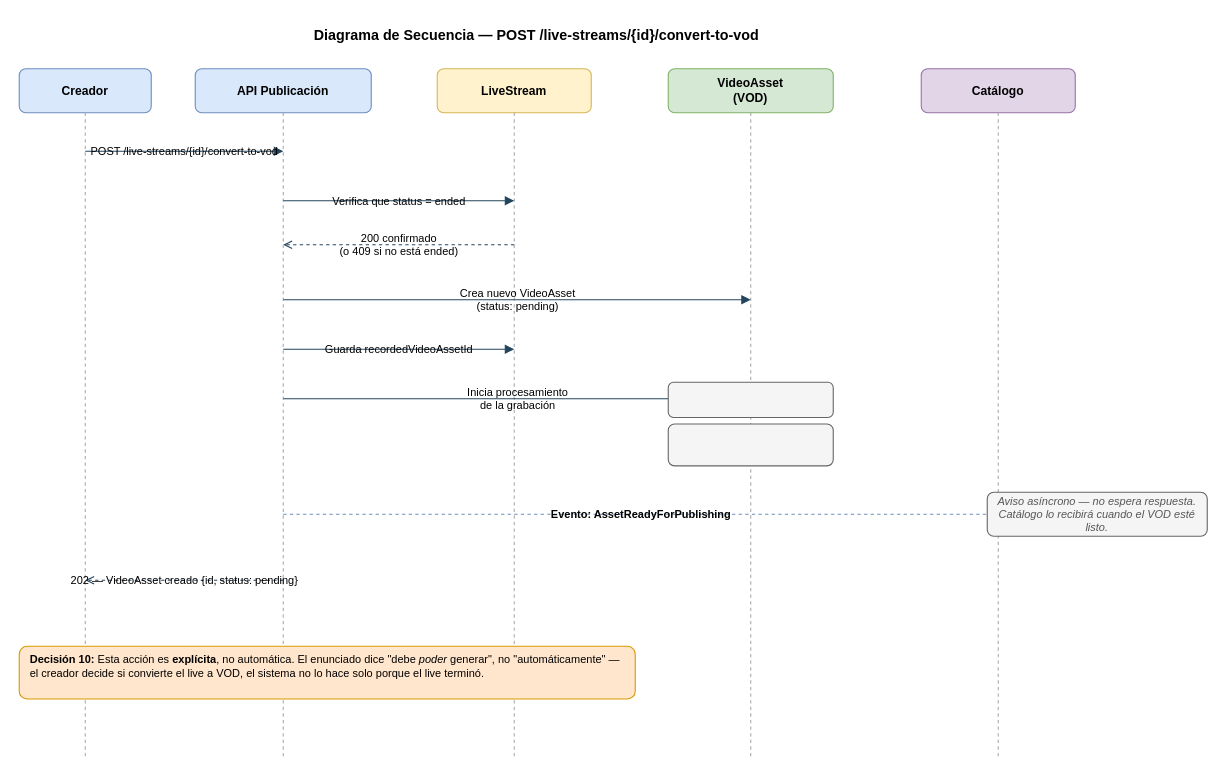
Image size: 1227x777. Some labels were removed from this diagram. Here are the shapes that lost their labels. From the top down, the box of each, then its label:
(667, 381, 833, 417): Automático internamente: el procesamiento se inicia solo, sin que nadie lo pida.
(667, 423, 833, 466): Estado interno: pending → processing → ready
